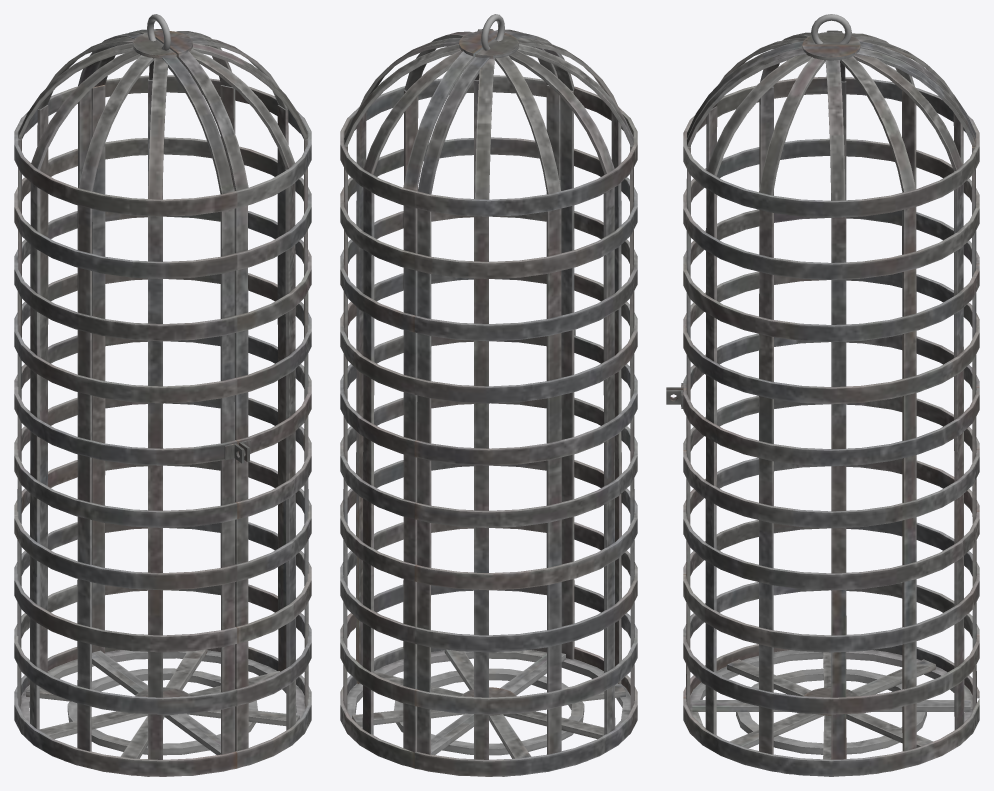
Rendered from SM_Gibbet_Cage.glb.
3 renders of one model, left to right at view 1: azimuth 30°, elevation 25°; view 2: azimuth 150°, elevation 25°; view 3: azimuth 270°, elevation 25°, orthographic.
Parts seen in each view (by area): view 1: SM_Gibbet_Cage; view 2: SM_Gibbet_Cage; view 3: SM_Gibbet_Cage.
Boxes of the visible parts, box(x1,y1,x2,y2) form: SM_Gibbet_Cage: box(14, 14, 311, 776); SM_Gibbet_Cage: box(340, 14, 637, 776); SM_Gibbet_Cage: box(666, 14, 979, 776).
Bounding box in the file's own units: 0.8699 × 2.25 × 0.9146.
1 material, 1 textured.
